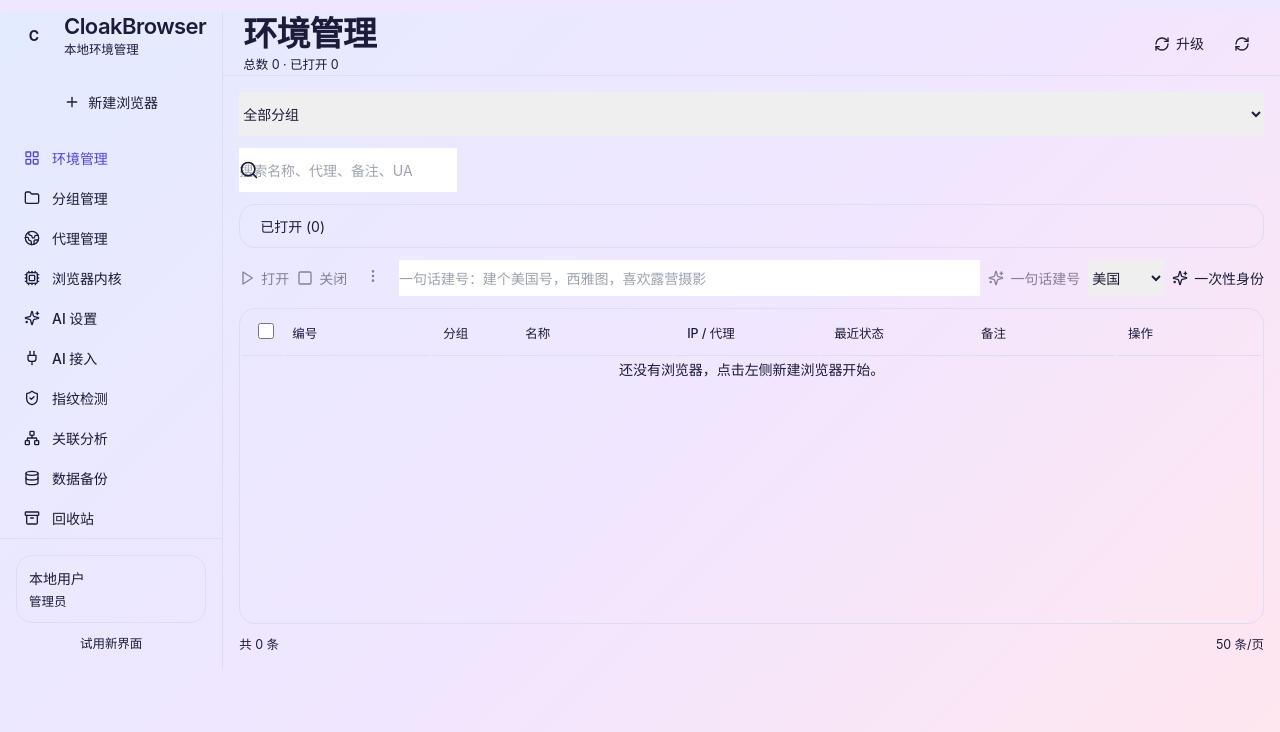
EnvironmentManager one-sentence profile creation › shows the backend 422 detail under the toolbar and opens no dialog
Type "来个号" into the field labelled "一句话建号" at (690, 278), box [399,260,980,296]
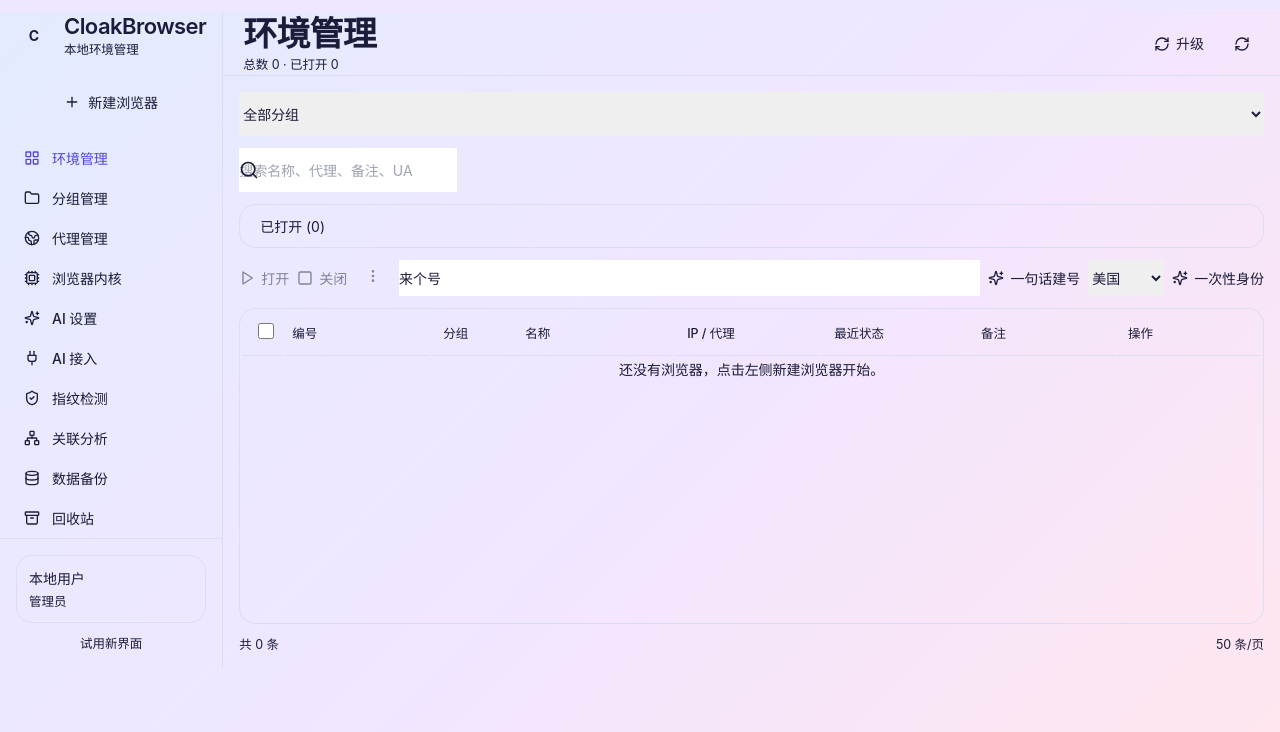
Click the button "一句话建号" at (1034, 278), box [988,268,1080,288]
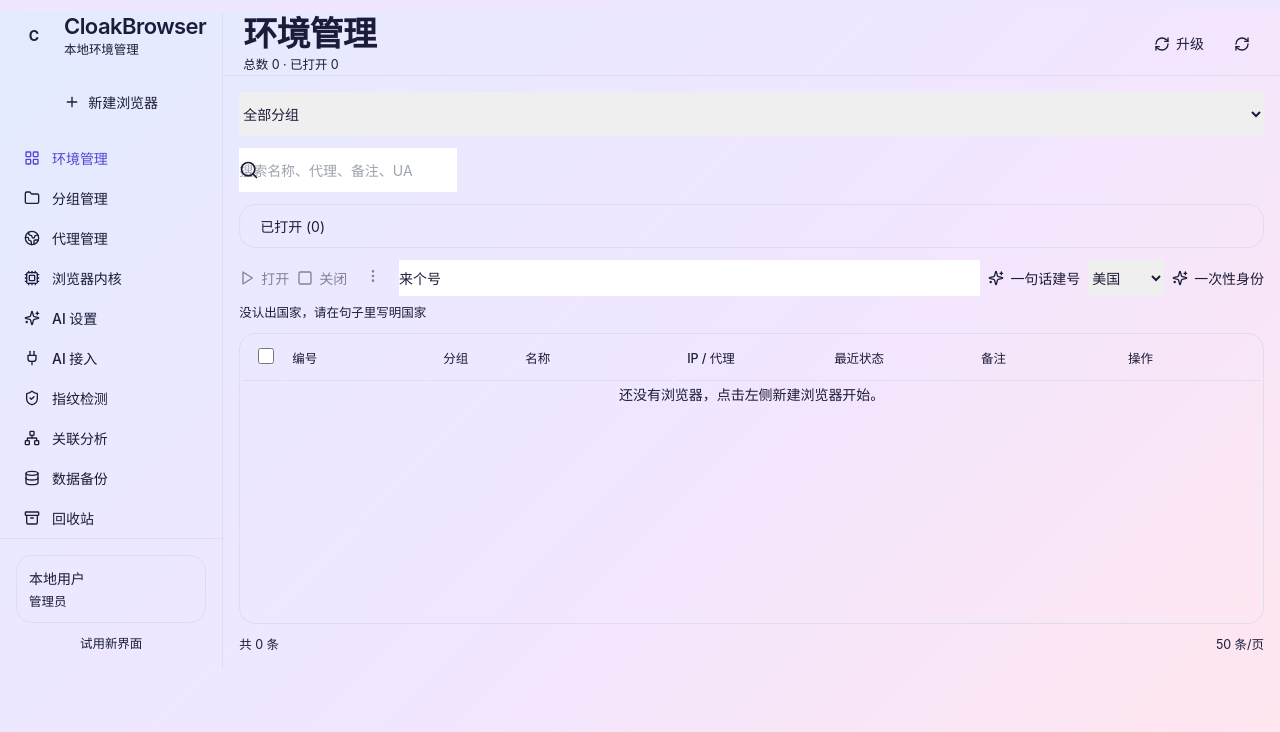
Now the text "没认出国家，请在句子里写明国家" is shown, box [239,305,426,320]
